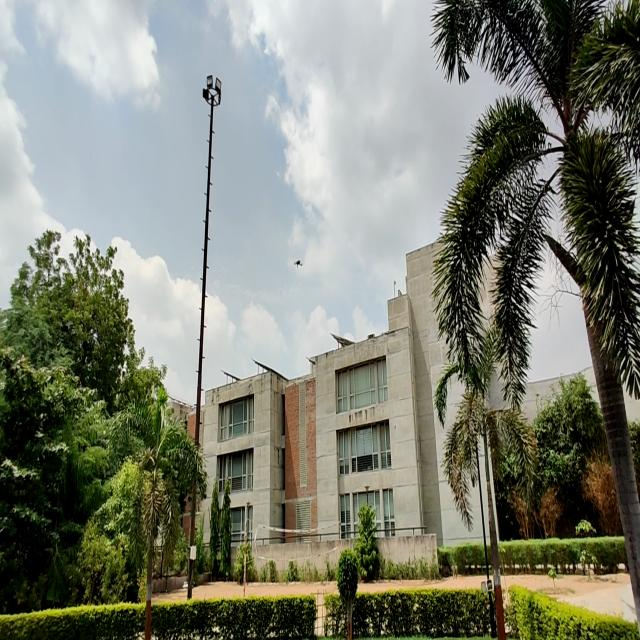drone: (290, 252, 304, 273)
